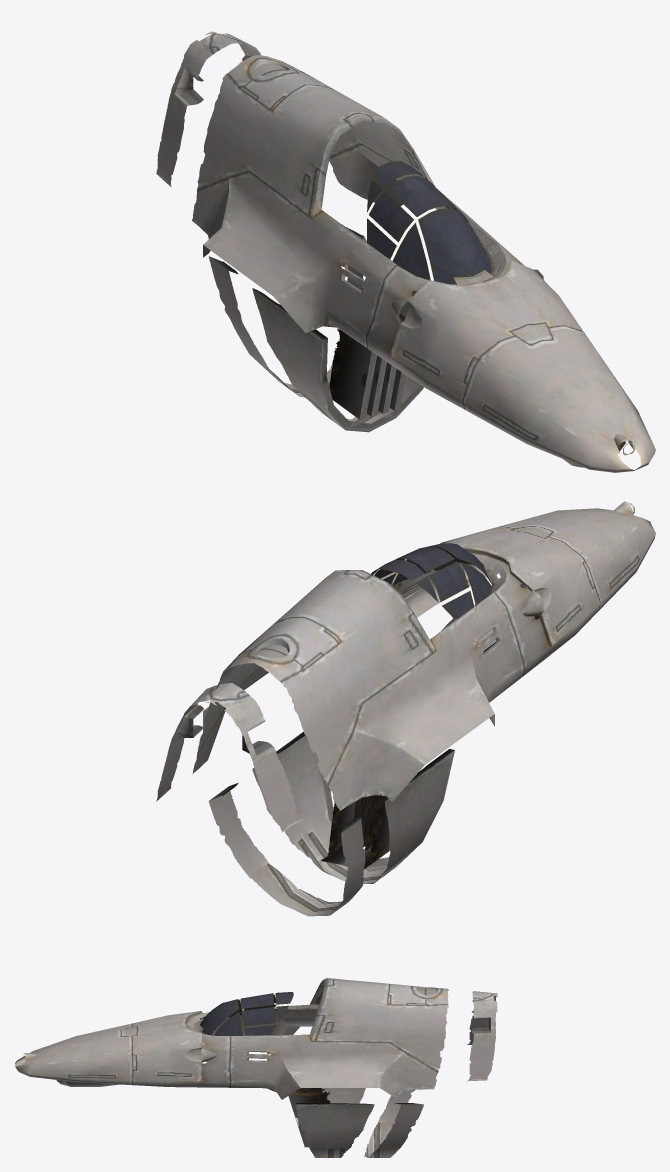
The model's file is hutt_fighter_medium_body_s01_l0.fbx.
3 views of the same model, one above another, from view 1: azimuth 30°, elevation 25°; view 2: azimuth 150°, elevation 25°; view 3: azimuth 270°, elevation 25° (orthographic). The views are drawn at different scales.
Visible parts, largest first — view 1: mesh_node; view 2: mesh_node; view 3: mesh_node.
Boxes of the visible parts, bbox=[...] form: mesh_node: bbox=[156, 31, 655, 472]; mesh_node: bbox=[156, 501, 655, 916]; mesh_node: bbox=[15, 978, 497, 1157].
Bounding box in the file's own units: 4.97 × 6.61 × 21.94.
